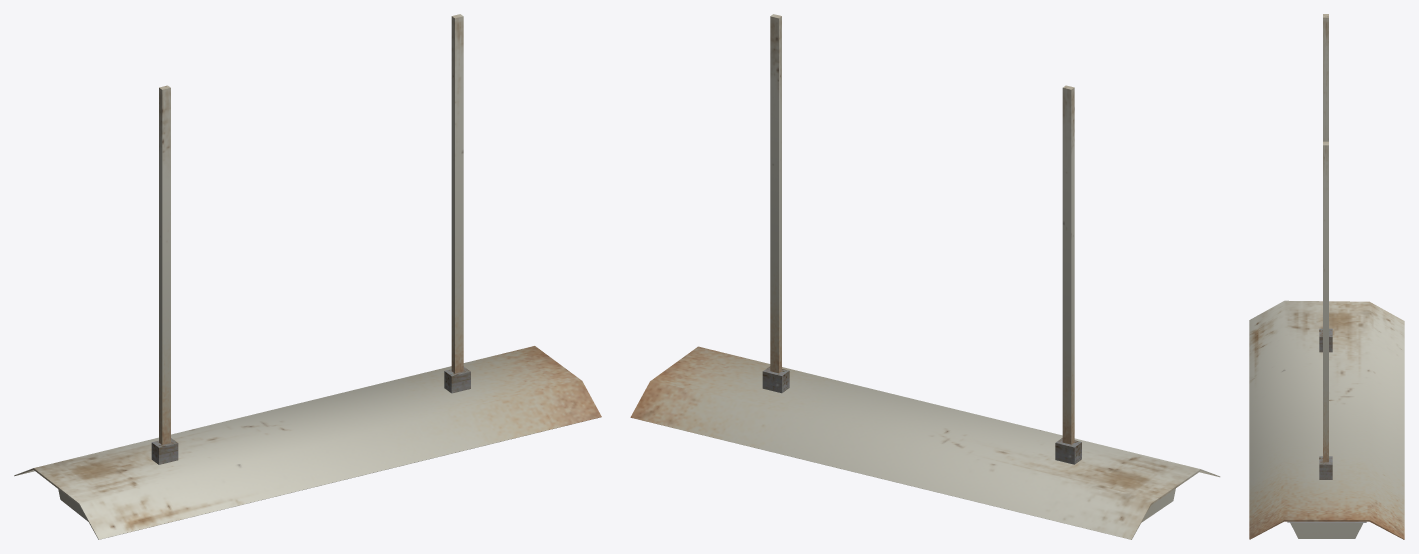
File: mallbil_light05.fbx
3 views of the same model, side by side, from view 1: azimuth 30°, elevation 25°; view 2: azimuth 150°, elevation 25°; view 3: azimuth 270°, elevation 25° (orthographic). The views are drawn at different scales.
Parts seen in each view (by area): view 1: mallbil_light05; view 2: mallbil_light05; view 3: mallbil_light05.
Part boxes in pixels (x1,y1,x2,y2): mallbil_light05: (14,14,601,539); mallbil_light05: (630,14,1220,539); mallbil_light05: (1249,14,1404,539).
Bounding box in the file's own units: 121 × 92.65 × 36.27.
